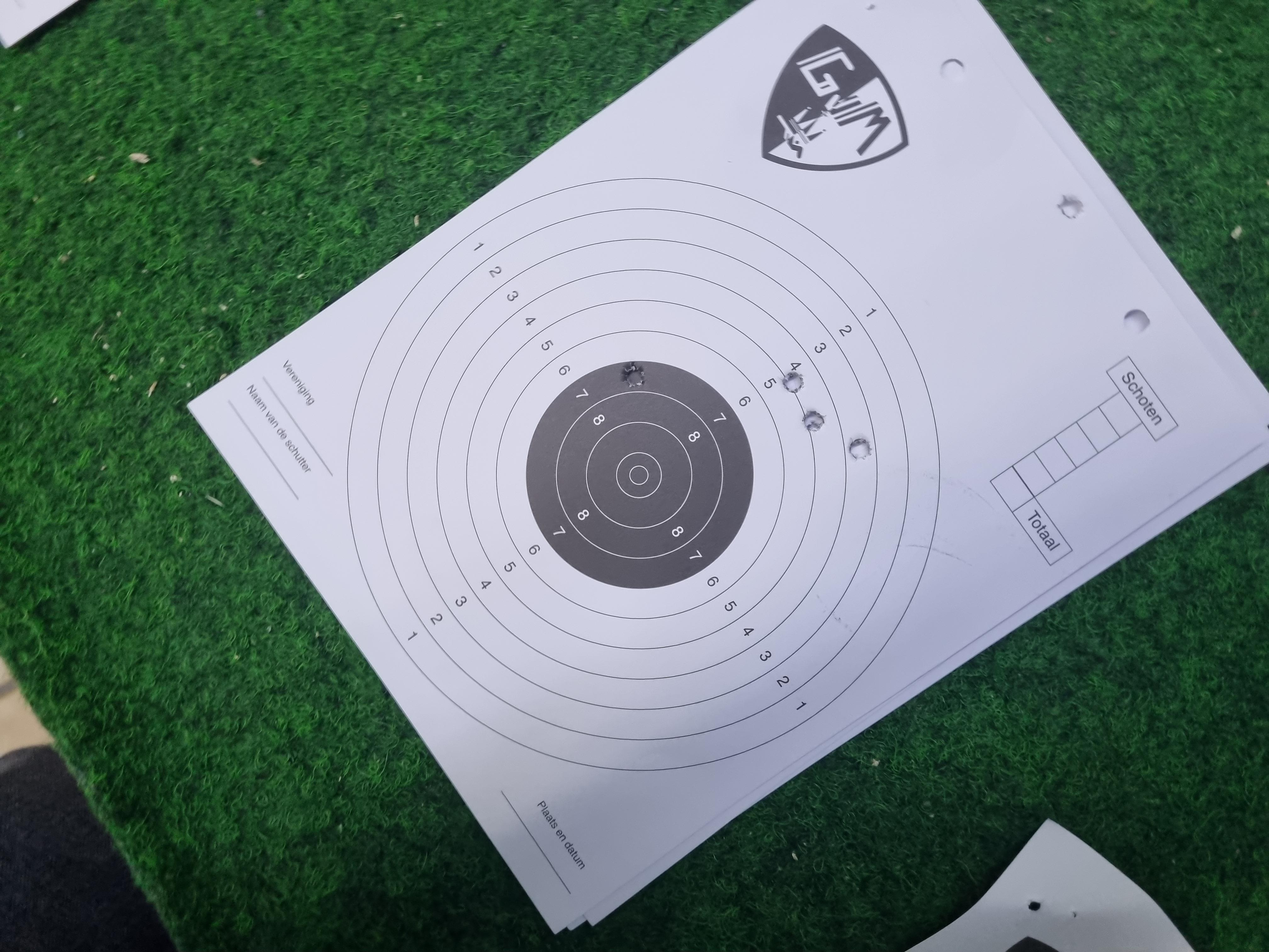hole: (976, 793, 1009, 813), (753, 466, 786, 483), (655, 636, 686, 654), (692, 602, 724, 619), (745, 586, 774, 604)
